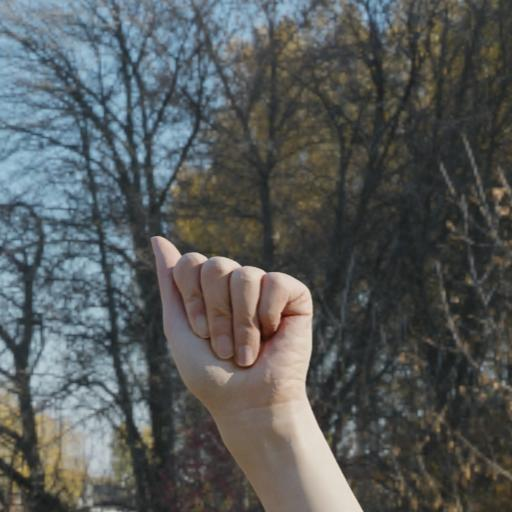A: (146, 234, 320, 399)
